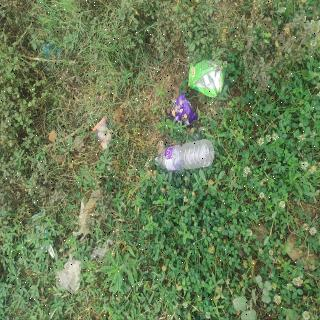Plastic-bottle: (152, 139, 216, 174)
